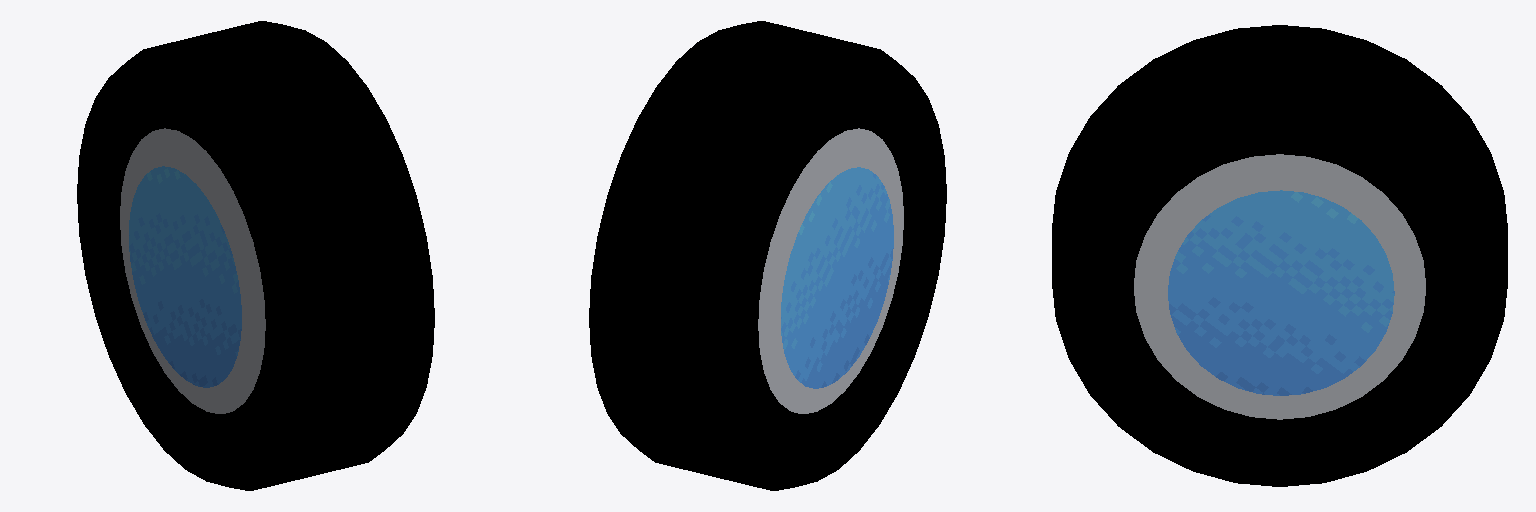
The picture shows the model from 3 angles: view 1: azimuth 30°, elevation 25°; view 2: azimuth 150°, elevation 25°; view 3: azimuth 270°, elevation 25°; orthographic projection.
Visible parts, largest first — view 1: Car_Cube.009; view 2: Car_Cube.009; view 3: Car_Cube.009.
Part boxes in pixels (bbox=[...]): Car_Cube.009: bbox=[77, 21, 434, 490]; Car_Cube.009: bbox=[589, 21, 946, 490]; Car_Cube.009: bbox=[1052, 25, 1507, 486].
Bounding box in the file's own units: 0.285 × 0.8 × 0.8.
5 materials, 2 textured.